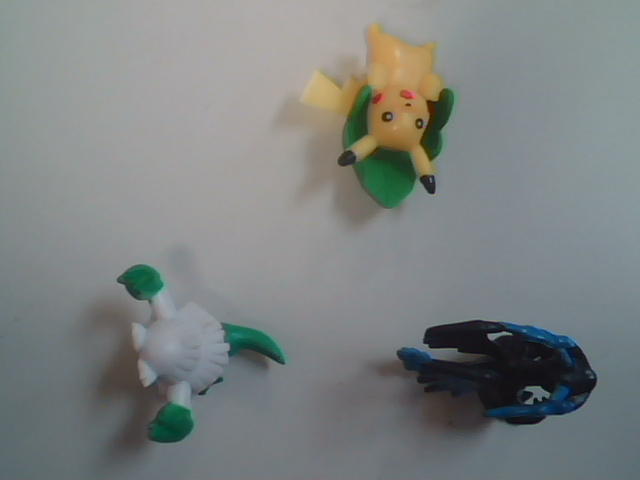abomasnow: (80, 253, 312, 458)
charizard: (388, 277, 613, 476)
pikachu: (282, 12, 518, 243)
